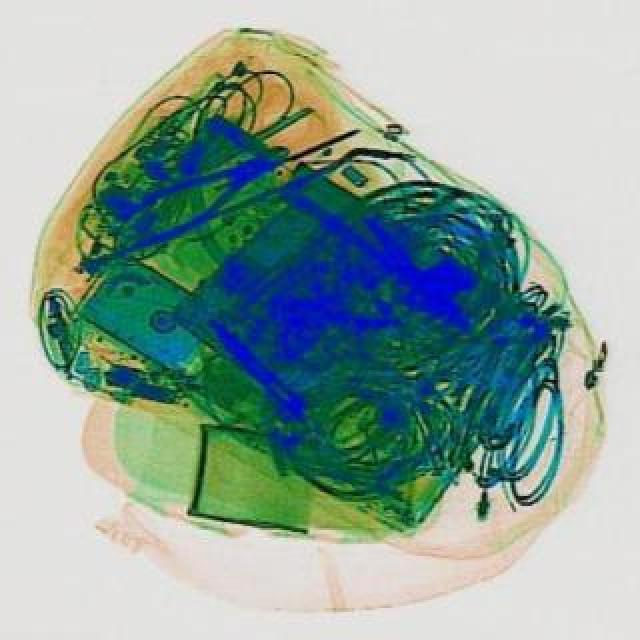wrench: (114, 128, 300, 260)
